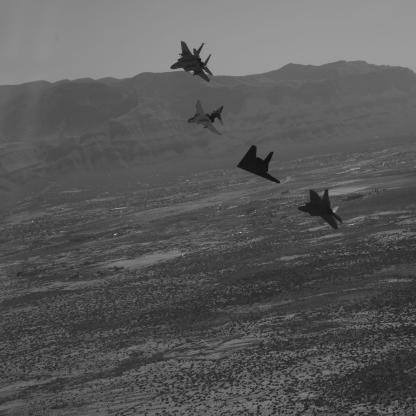F117: (237, 146, 281, 185)
F15: (170, 42, 214, 83)
F22: (298, 189, 344, 231)
F4: (188, 101, 225, 137)
